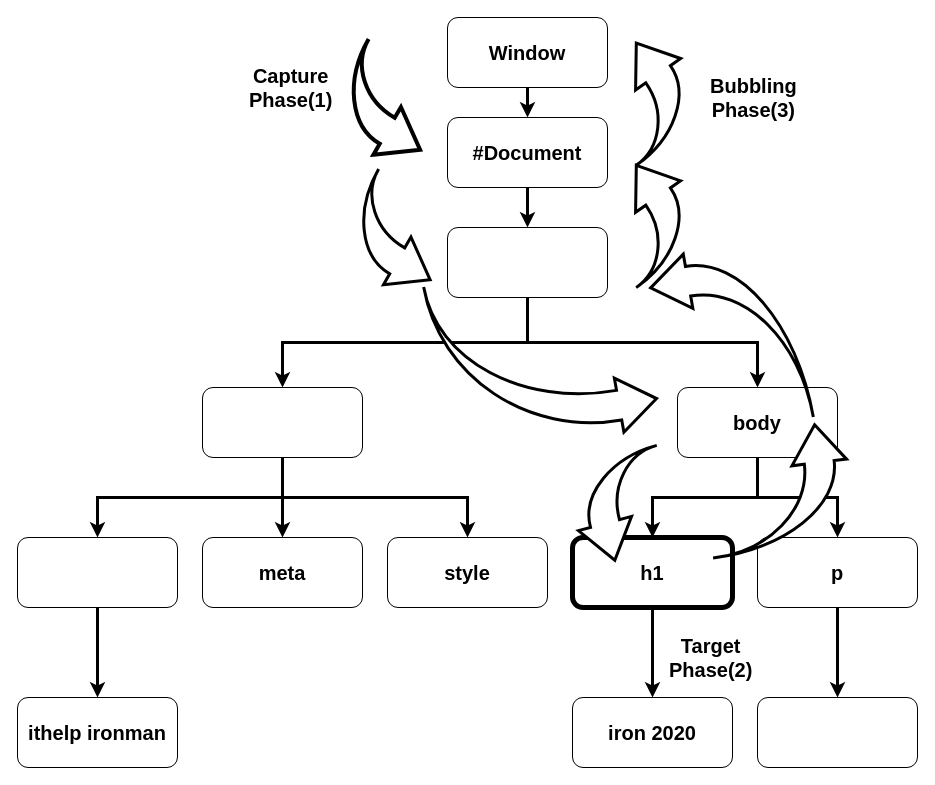
Some shapes in this 935 by 785 pixel diagram are drawn without their labels. Here are the shapes that lost their labels. From the top down, the centre of each, then its label:
At [527,262]: "html".
At [282,422]: "head".
At [97,572]: "title".
At [837,732]: "join us".
